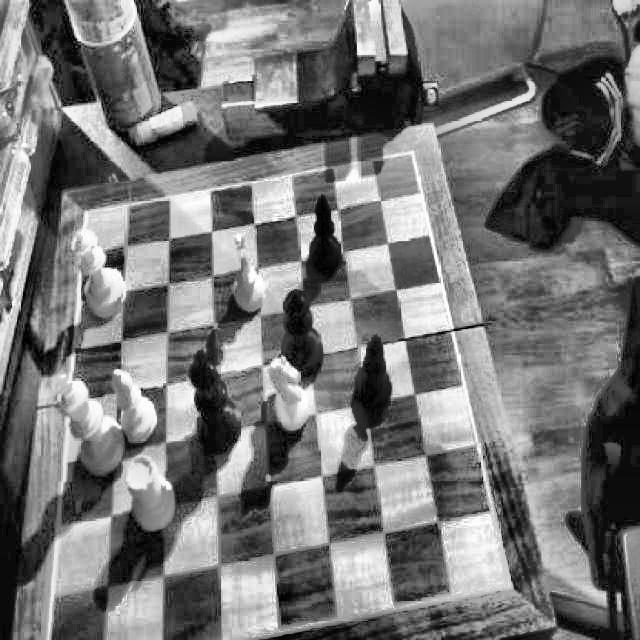black-bishop: (308, 191, 347, 278), (356, 336, 395, 420)
black-king: (185, 348, 248, 460)
black-queen: (279, 289, 327, 380)
white-bishop: (108, 365, 164, 446)
white-king: (54, 371, 128, 482)
white-knight: (228, 229, 268, 317), (268, 356, 312, 435)
white-queen: (71, 228, 128, 324)
white-rook: (123, 454, 181, 538)
